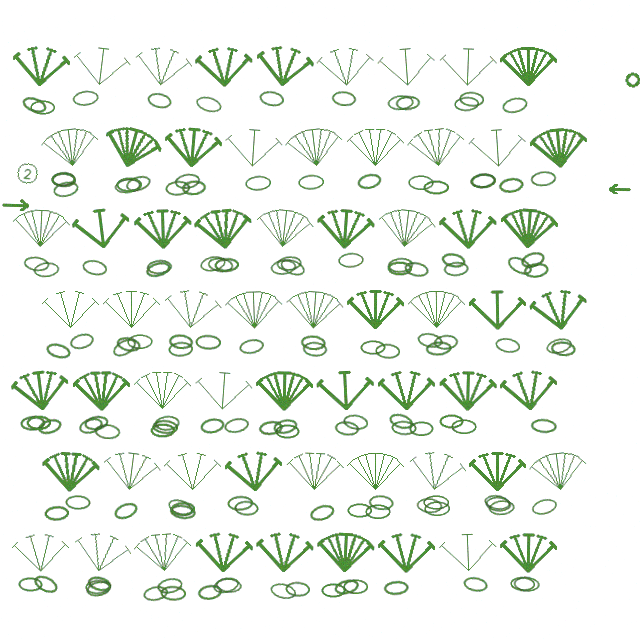chain: (505, 253, 534, 278), (110, 335, 139, 360), (31, 572, 60, 596), (278, 256, 307, 279), (166, 496, 195, 519), (112, 499, 140, 522), (20, 94, 48, 116), (194, 94, 223, 115), (124, 173, 153, 194), (530, 496, 559, 517), (144, 259, 172, 280), (519, 249, 547, 270), (36, 416, 64, 437), (77, 415, 105, 436), (387, 411, 415, 432), (308, 502, 336, 523), (501, 95, 529, 115), (52, 179, 80, 199), (44, 341, 72, 361), (68, 331, 96, 351), (545, 336, 573, 356), (212, 575, 240, 595), (269, 581, 297, 601), (356, 171, 383, 191), (86, 574, 113, 594), (333, 577, 360, 597), (199, 254, 227, 273), (416, 331, 444, 350), (483, 493, 511, 512), (156, 576, 184, 595), (146, 91, 173, 110), (258, 89, 285, 108), (81, 258, 108, 277), (403, 260, 430, 279), (440, 251, 467, 270), (115, 335, 142, 354), (238, 337, 265, 356), (494, 336, 521, 355), (223, 416, 250, 435), (199, 416, 226, 435), (272, 417, 299, 436), (85, 579, 112, 598), (142, 584, 169, 603), (462, 575, 489, 594), (72, 89, 99, 107), (114, 177, 141, 195), (174, 172, 201, 190), (23, 255, 50, 273), (207, 256, 234, 274), (270, 258, 297, 276), (83, 414, 110, 432), (342, 413, 369, 431), (169, 503, 196, 521), (498, 176, 524, 194), (523, 261, 549, 279), (258, 419, 284, 437), (197, 583, 223, 601), (387, 94, 414, 111), (530, 170, 557, 187), (33, 261, 60, 278), (425, 340, 452, 357), (94, 423, 121, 440), (416, 497, 443, 514), (488, 499, 515, 516), (215, 577, 242, 594), (331, 90, 357, 107), (181, 179, 207, 196), (470, 172, 496, 189), (276, 255, 302, 272), (168, 333, 194, 350), (300, 334, 326, 351), (550, 340, 576, 357), (334, 420, 360, 437), (368, 494, 394, 511), (146, 259, 173, 275), (387, 257, 414, 273), (530, 418, 557, 434), (485, 496, 512, 512), (513, 576, 540, 592), (395, 95, 421, 111), (245, 175, 271, 191), (298, 174, 324, 190), (470, 173, 496, 189), (338, 252, 364, 268), (443, 261, 469, 277), (195, 334, 221, 350), (302, 341, 328, 357), (433, 334, 459, 350), (152, 419, 178, 435), (154, 415, 180, 431), (391, 420, 417, 436), (227, 495, 253, 511), (85, 579, 111, 595), (160, 585, 186, 601), (383, 580, 409, 596), (459, 91, 484, 107), (454, 96, 479, 112), (51, 171, 76, 187), (51, 172, 76, 188), (165, 180, 190, 196), (214, 257, 239, 273), (168, 341, 193, 357), (375, 343, 400, 359), (20, 415, 45, 431), (44, 505, 69, 521), (170, 501, 195, 517), (234, 500, 259, 516), (285, 581, 310, 597), (510, 576, 535, 592), (116, 177, 142, 192), (408, 175, 434, 190), (423, 180, 449, 195), (127, 334, 153, 349), (360, 340, 386, 355), (451, 419, 477, 434), (65, 495, 91, 510), (365, 504, 391, 519), (423, 495, 449, 510), (424, 501, 450, 516), (30, 100, 55, 115), (387, 261, 412, 276), (26, 415, 51, 430), (150, 423, 175, 438), (275, 424, 300, 439), (409, 421, 434, 436), (439, 414, 464, 429), (347, 503, 372, 518), (18, 577, 43, 592), (343, 579, 368, 594), (321, 583, 346, 598)
fan: (99, 120, 165, 176), (70, 527, 134, 579), (406, 446, 468, 497), (132, 42, 194, 92), (528, 285, 590, 335), (71, 42, 132, 91), (254, 42, 315, 91), (40, 123, 101, 172), (284, 123, 345, 172), (406, 123, 467, 172), (71, 204, 132, 253), (254, 204, 315, 253), (376, 204, 437, 253), (162, 285, 223, 334), (10, 366, 71, 415), (101, 447, 162, 496), (528, 447, 589, 496), (193, 205, 254, 253), (529, 124, 589, 172), (11, 43, 71, 90), (163, 124, 223, 171), (499, 205, 559, 252), (499, 367, 559, 414), (224, 448, 284, 495), (133, 529, 193, 576), (316, 44, 375, 90), (377, 44, 436, 90), (224, 125, 283, 171), (468, 125, 527, 171), (316, 206, 375, 252), (285, 287, 344, 333), (194, 368, 253, 414), (41, 449, 100, 495), (316, 368, 375, 413), (255, 530, 314, 575), (316, 530, 375, 575), (12, 206, 70, 251), (286, 449, 344, 494), (195, 530, 253, 575), (439, 530, 497, 575), (195, 45, 253, 89), (439, 45, 497, 89), (134, 207, 192, 251), (439, 207, 497, 251), (225, 288, 283, 332), (439, 369, 497, 413), (469, 288, 526, 332), (73, 369, 130, 413), (256, 369, 313, 413), (12, 531, 69, 575), (378, 531, 435, 575), (500, 531, 557, 575), (500, 45, 557, 88), (347, 126, 404, 169), (42, 288, 99, 331), (103, 288, 160, 331), (347, 288, 404, 331), (408, 288, 465, 331), (134, 369, 191, 412), (378, 369, 435, 412), (164, 450, 221, 493), (347, 450, 404, 493), (469, 450, 526, 493)
noise: (14, 160, 41, 187), (1, 199, 31, 211), (623, 70, 640, 90), (606, 184, 631, 194)
